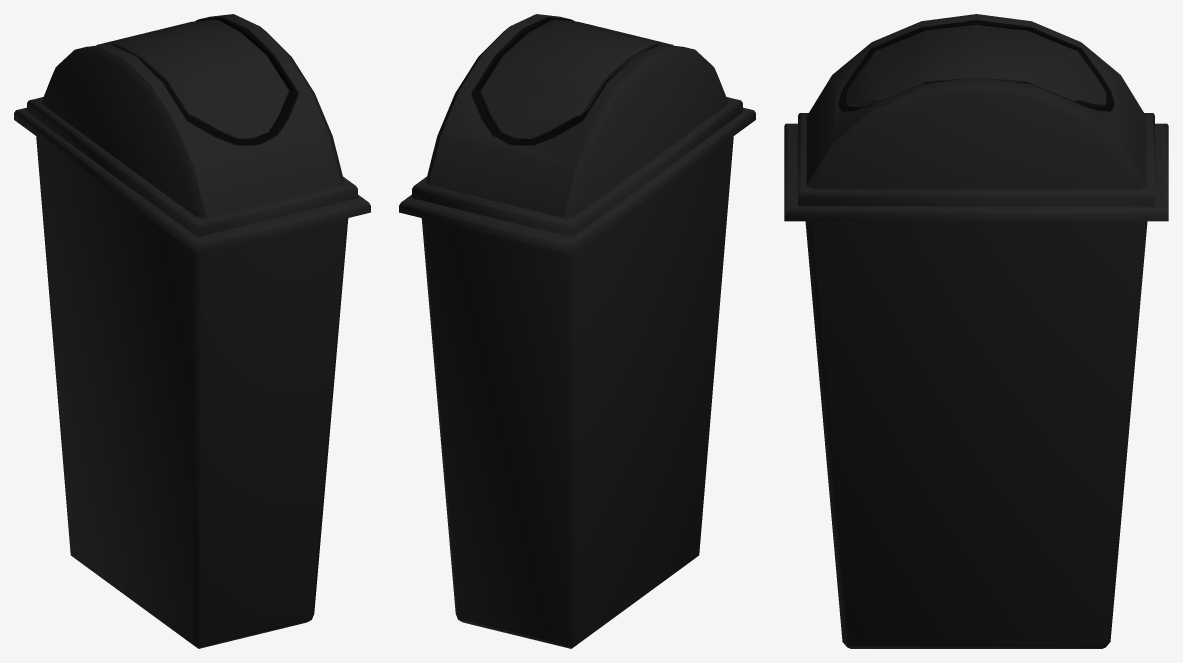
Rendered from LC_3194_Trash_can_E_LOD3.FBX.
3 renders of one model, left to right at view 1: azimuth 30°, elevation 25°; view 2: azimuth 150°, elevation 25°; view 3: azimuth 270°, elevation 25°, orthographic. The views are drawn at different scales.
Parts seen in each view (by area): view 1: LC_3194_Trash_can_E_LOD3; view 2: LC_3194_Trash_can_E_LOD3; view 3: LC_3194_Trash_can_E_LOD3.
Boxes of the visible parts, x1,y1,x2,y2 form: LC_3194_Trash_can_E_LOD3: (14,14,370,648); LC_3194_Trash_can_E_LOD3: (399,14,755,648); LC_3194_Trash_can_E_LOD3: (784,14,1168,648).
Size of the model in its own units: 25.51 by 77.44 by 47.09.
1 material, 1 textured.
